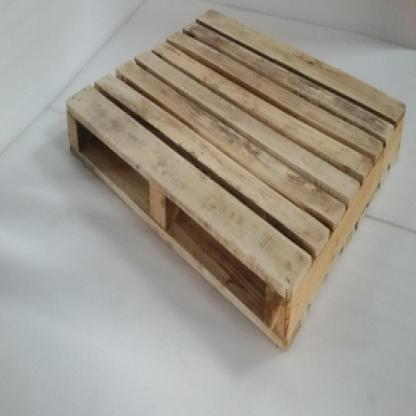BoxFace: (66, 8, 406, 355)
